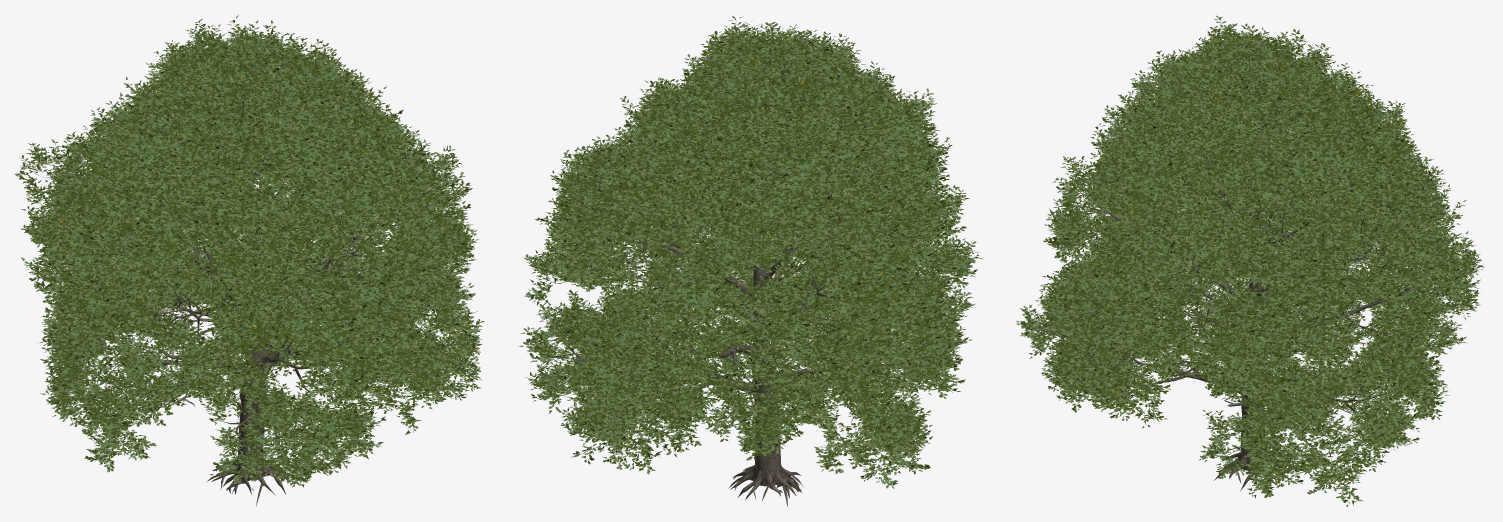
The model's file is quercus-robur-lone-ld-s7.glb.
The picture shows the model from 3 angles, left to right: view 1: azimuth 30°, elevation 25°; view 2: azimuth 150°, elevation 25°; view 3: azimuth 270°, elevation 25°; orthographic projection. The views are drawn at different scales.
Parts seen in each view (by area): view 1: ForestPlantCatalog_quercus-robur-lone-ld-s7; view 2: ForestPlantCatalog_quercus-robur-lone-ld-s7; view 3: ForestPlantCatalog_quercus-robur-lone-ld-s7.
Part boxes in pixels (box(x1,y1,x2,y2)): ForestPlantCatalog_quercus-robur-lone-ld-s7: box(14, 15, 484, 506); ForestPlantCatalog_quercus-robur-lone-ld-s7: box(519, 16, 982, 506); ForestPlantCatalog_quercus-robur-lone-ld-s7: box(1016, 15, 1484, 507).
Size of the model in its own units: 13.87 by 14.5 by 14.2.
14 materials, 14 textured.
